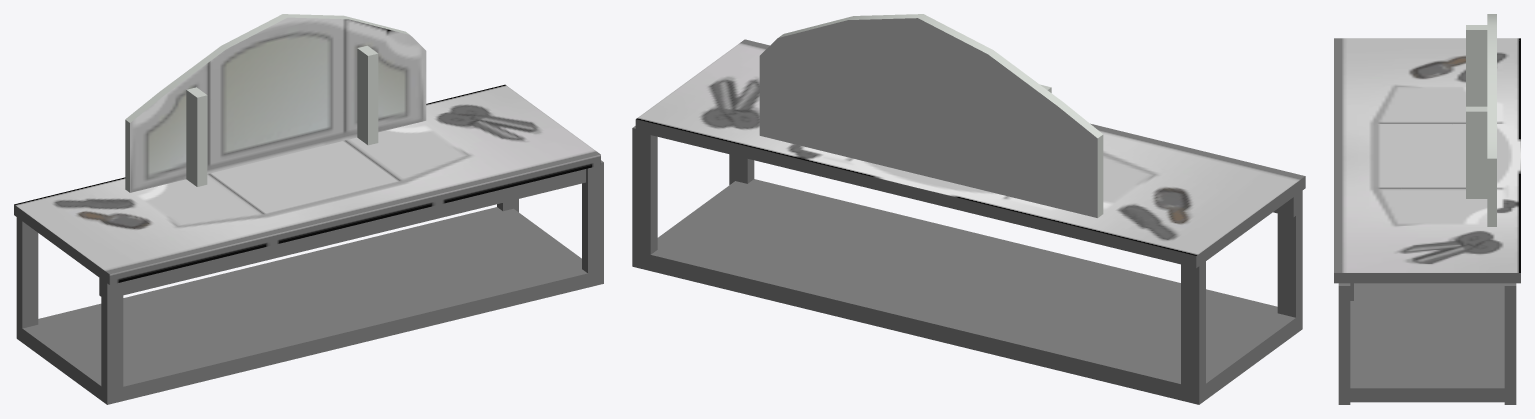
File: Building_StylingStation.obj
The picture shows the model from 3 angles, left to right: view 1: azimuth 30°, elevation 25°; view 2: azimuth 150°, elevation 25°; view 3: azimuth 270°, elevation 25°; orthographic projection. The views are drawn at different scales.
Parts seen in each view (by area): view 1: Body; view 2: Body; view 3: Body.
Boxes of the visible parts, x1,y1,x2,y2 form: Body: [14, 14, 603, 404]; Body: [632, 14, 1305, 404]; Body: [1334, 14, 1520, 404].
Bounding box in the file's own units: 2.91 × 1.51 × 0.9688.
Materials: 1 (1 with a texture image).
